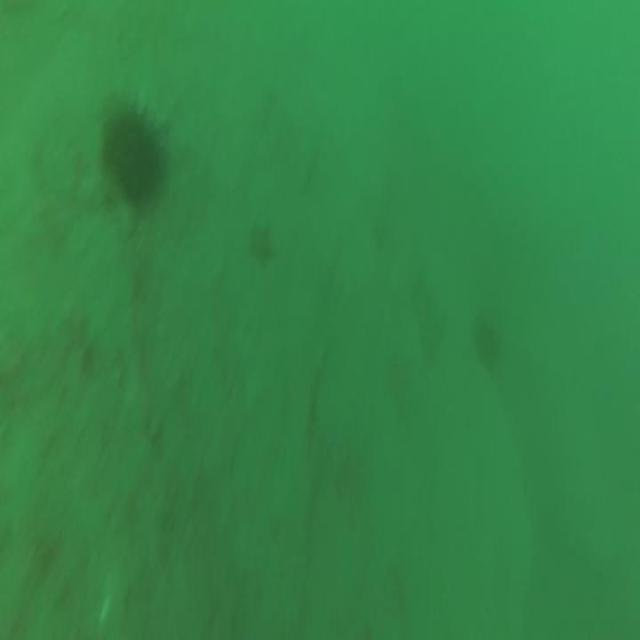echinus: (102, 110, 158, 204), (472, 314, 499, 366)
starfish: (247, 222, 272, 266)
